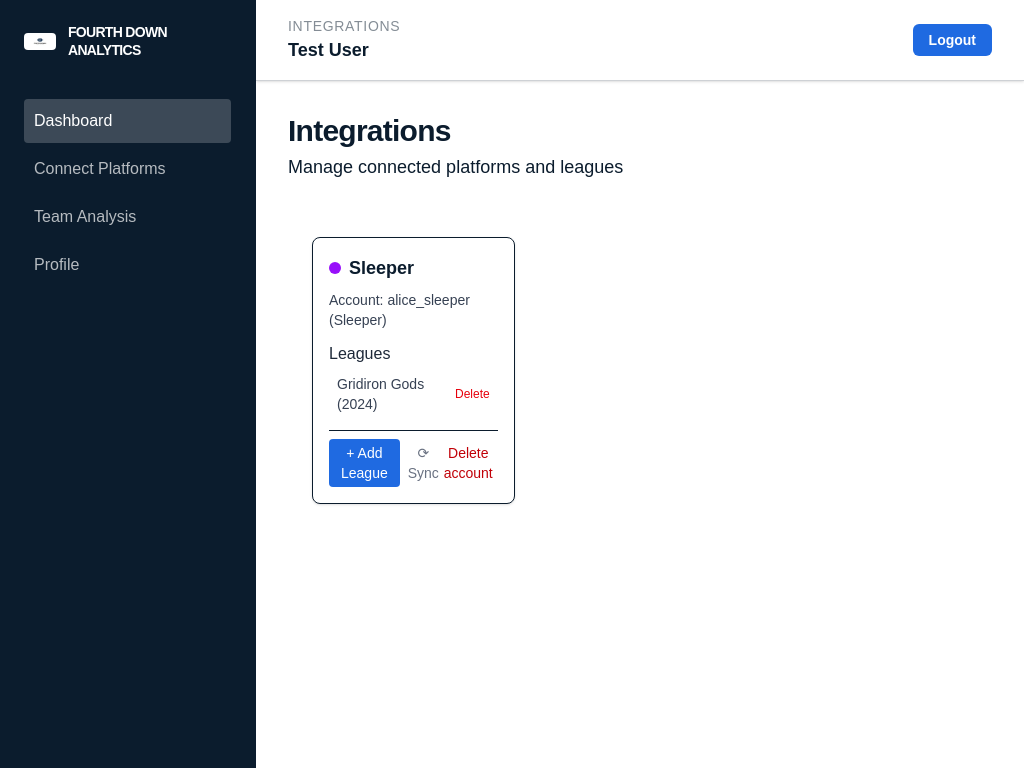
Integrations page › deletes a league only after confirmation and removes it from the list
The width and height of the screenshot is (1024, 768).
Click the button "Delete".
click(472, 394)  # box x1=455 y1=386 x2=490 y2=402
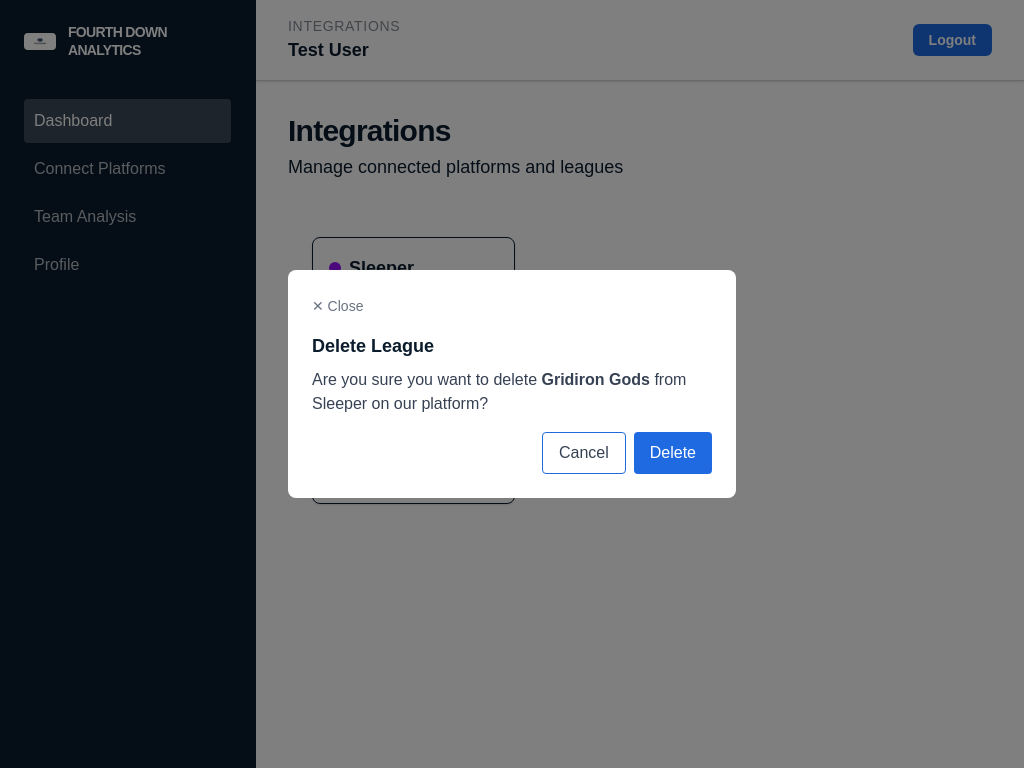
Click the button "Delete".
click(673, 453)  # box x1=634 y1=432 x2=712 y2=474
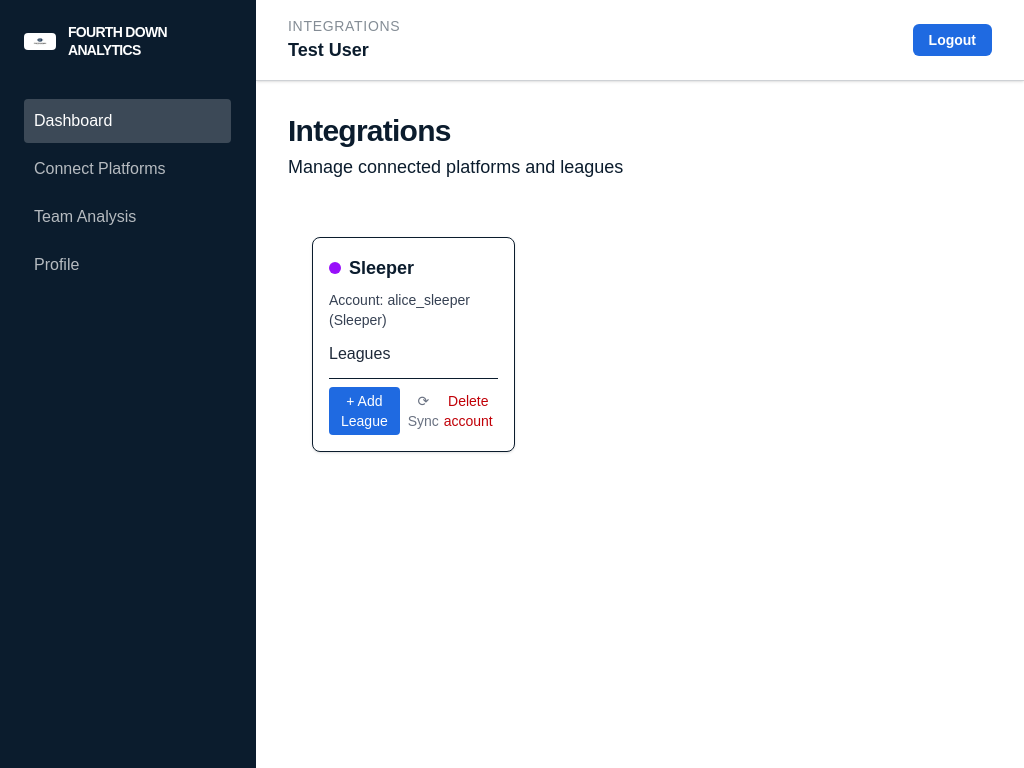
Expected: the text "Gridiron Gods (2024)" is gone
Expected: the heading "Delete League" is gone
